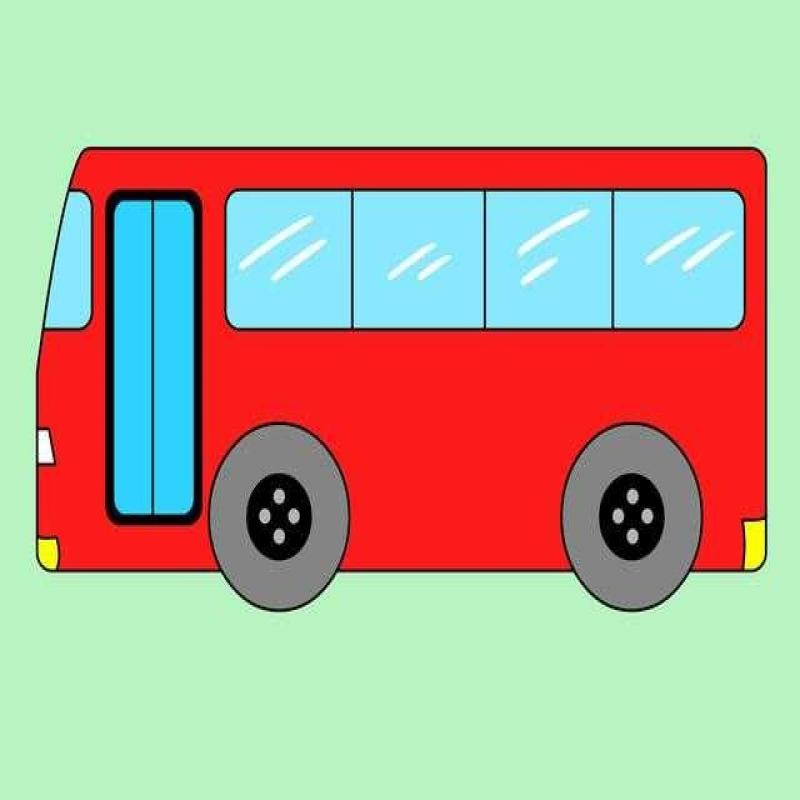bus: (35, 94, 793, 646)
